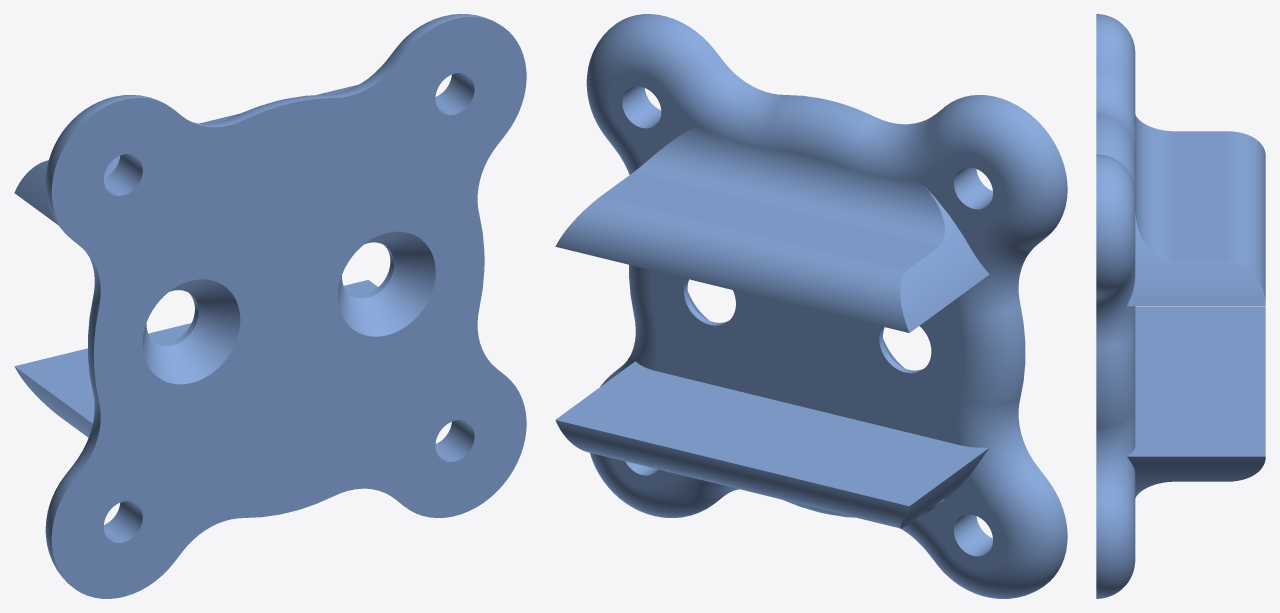
The model's file is loadcelladapter.gltf.
The picture shows the model from 3 angles, left to right: view 1: azimuth 30°, elevation 25°; view 2: azimuth 150°, elevation 25°; view 3: azimuth 270°, elevation 25°; orthographic projection. The views are drawn at different scales.
Parts seen in each view (by area): view 1: Part 2; view 2: Part 2; view 3: Part 2.
Boxes of the visible parts, x1=… form: Part 2: x1=14, y1=14, x2=526, y2=598; Part 2: x1=555, y1=14, x2=1067, y2=598; Part 2: x1=1096, y1=14, x2=1265, y2=598.
Size of the model in its own units: 0.0365 by 0.0365 by 0.013.
